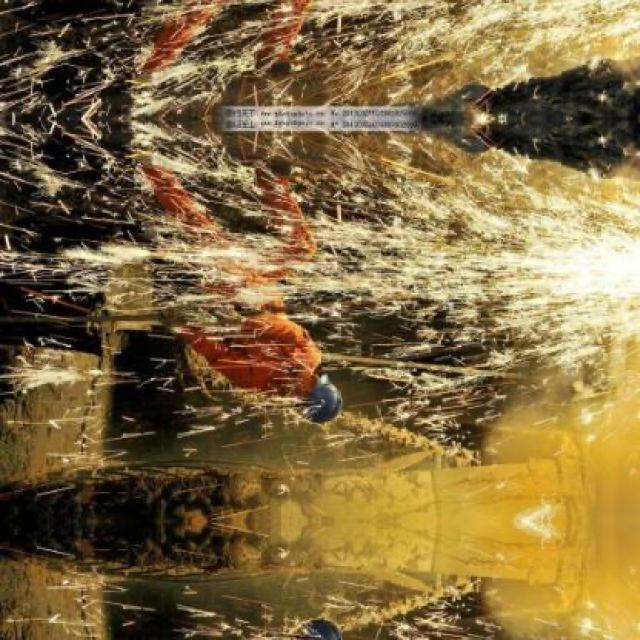con casco: (245, 349, 355, 424)
